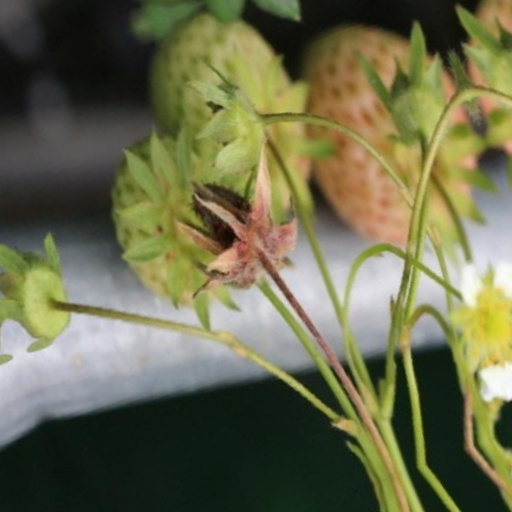Gray Mold: (181, 200, 310, 359)
